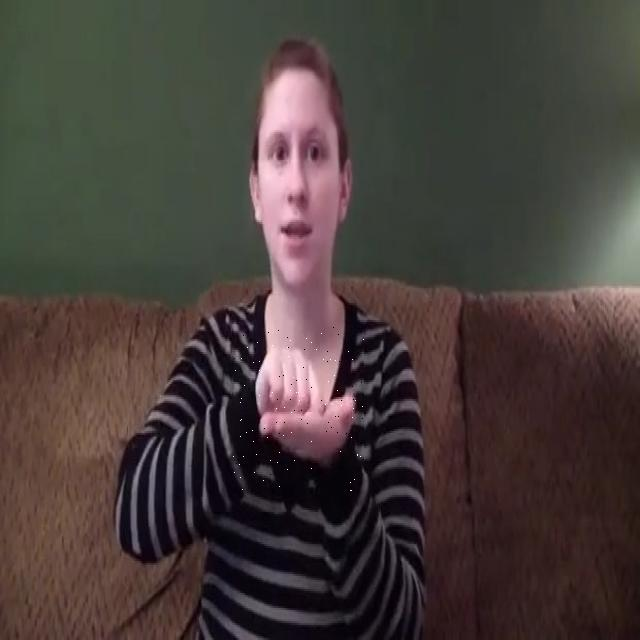chicken: (232, 326, 364, 492)
